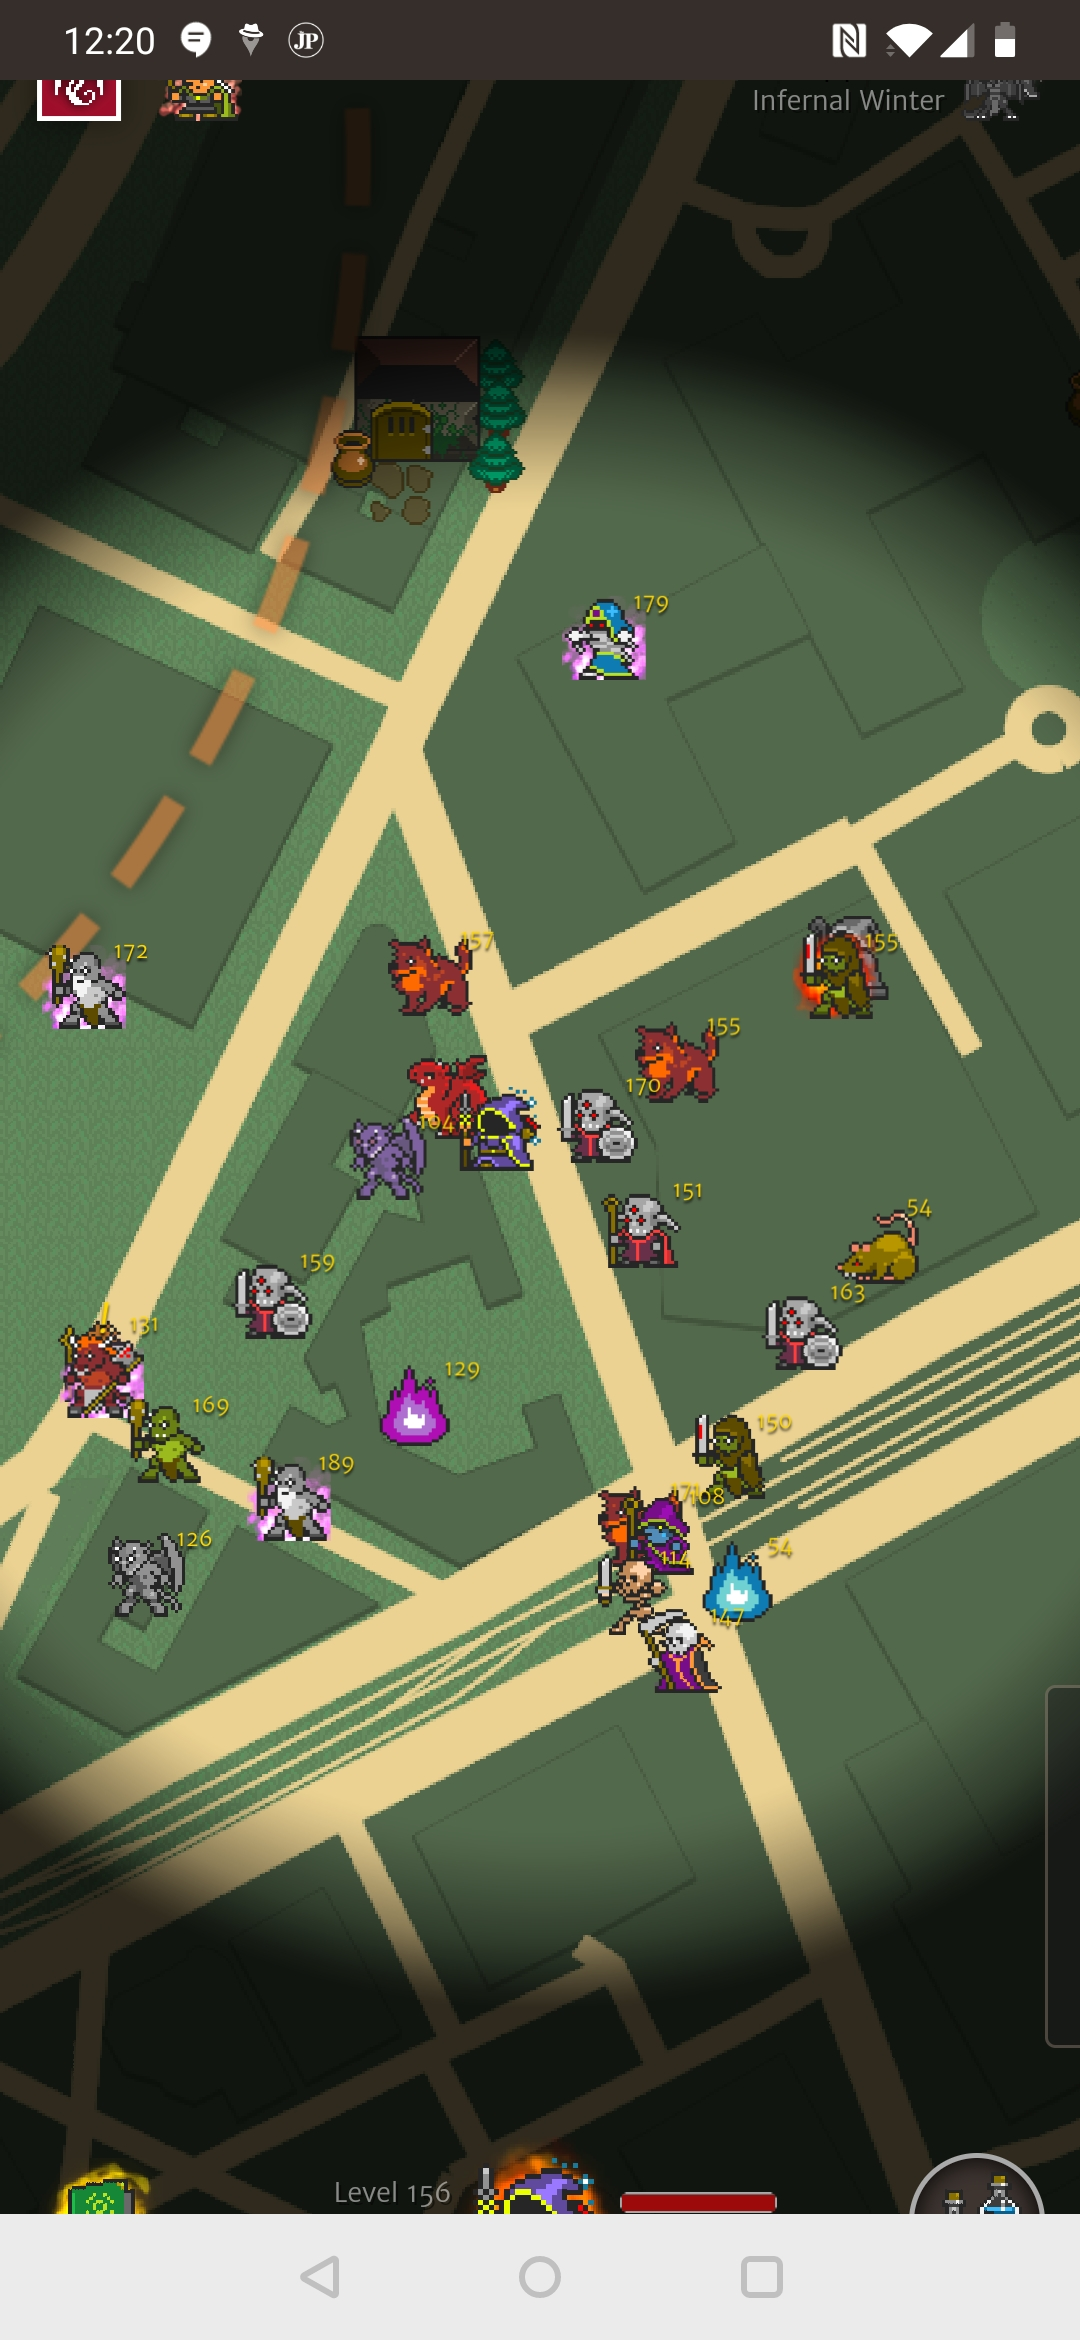monster: (33, 937, 162, 1043), (382, 927, 497, 1043), (549, 581, 669, 691), (341, 1096, 451, 1207), (97, 1530, 221, 1627), (244, 1450, 364, 1550), (372, 1350, 487, 1453), (231, 1253, 341, 1355), (759, 1281, 874, 1373), (638, 1012, 749, 1107), (600, 1178, 705, 1276), (836, 1194, 941, 1289), (695, 1404, 803, 1494), (126, 1402, 233, 1489), (646, 1602, 754, 1686), (708, 1537, 808, 1625), (562, 1078, 667, 1158)
player: (449, 1091, 541, 1178)
